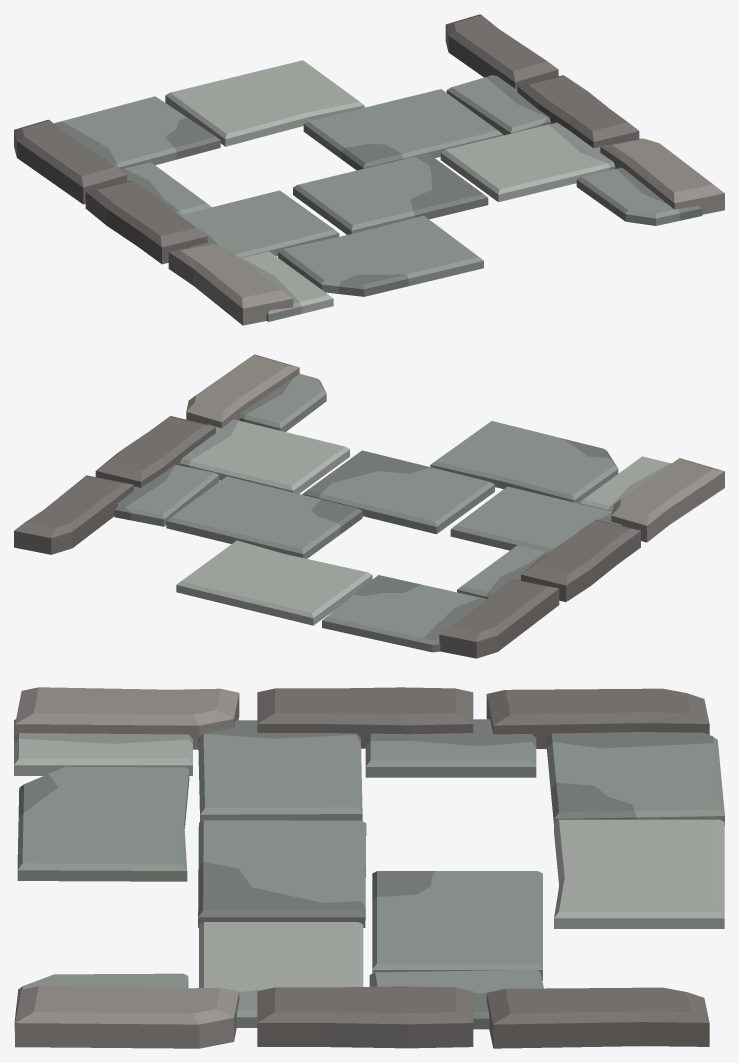
Rendered from SM_Env_Path_Tile_02.gltf.
3 renders of one model, top to bottom at view 1: azimuth 30°, elevation 25°; view 2: azimuth 150°, elevation 25°; view 3: azimuth 270°, elevation 25°, orthographic. The views are drawn at different scales.
Visible parts, largest first — view 1: SM_Env_Path_Tile_02; view 2: SM_Env_Path_Tile_02; view 3: SM_Env_Path_Tile_02.
Boxes of the visible parts, bbox=[...] form: SM_Env_Path_Tile_02: bbox=[14, 14, 724, 325]; SM_Env_Path_Tile_02: bbox=[14, 354, 724, 658]; SM_Env_Path_Tile_02: bbox=[14, 687, 724, 1048].
Size of the model in its own units: 3.29 by 0.1447 by 2.97.
1 material, 1 textured.
